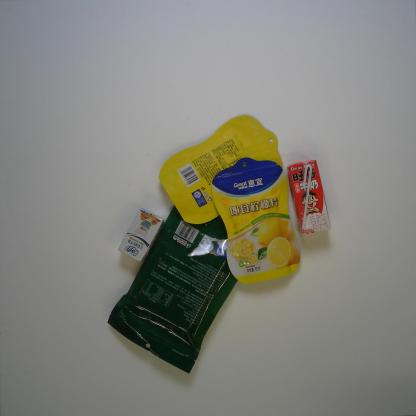Dried Food: (107, 198, 252, 375)
Dried Fruit: (158, 114, 284, 225), (211, 157, 302, 285)
Milk: (286, 159, 332, 235), (117, 208, 164, 262)
